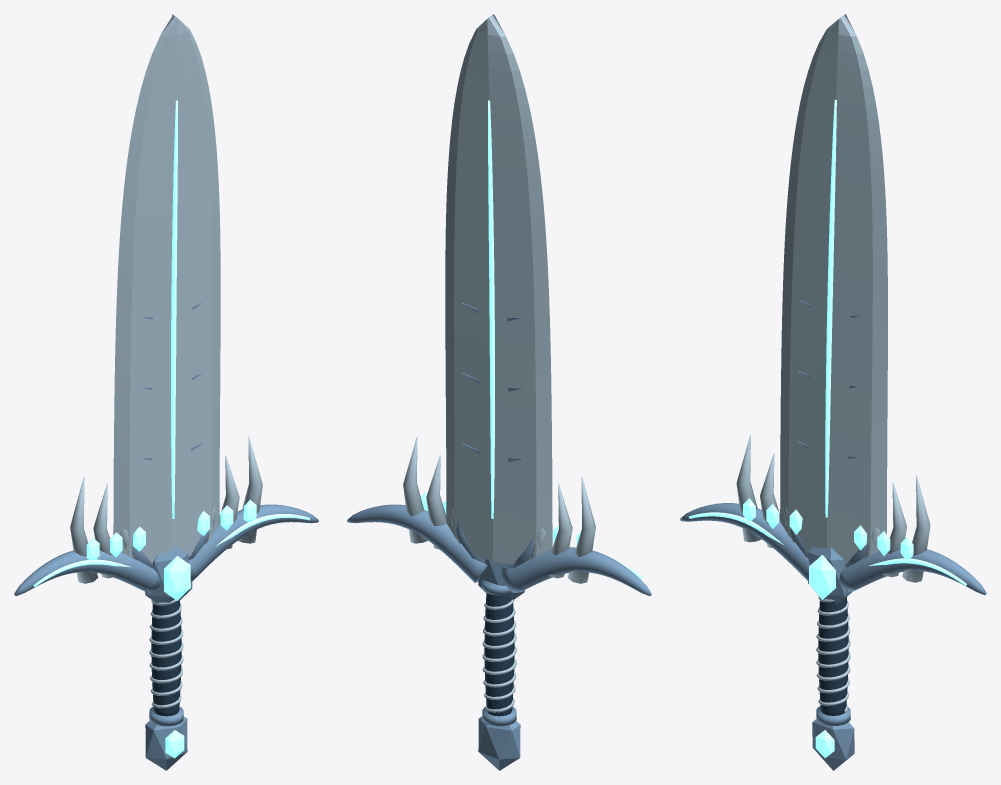
The model's file is frost_sovereign.glb.
3 views of the same model, side by side, from view 1: azimuth 30°, elevation 25°; view 2: azimuth 150°, elevation 25°; view 3: azimuth 330°, elevation 25° (orthographic).
Visible parts, largest first — view 1: Frost Sovereign blade, Swept guard wing.012, Tapered leather grip.006, Swept guard wing.013, Curved fuller inlay.012, Faceted pommel.006, Helical grip binding.006, Sovereign ice crown.002, Guard gemstone.006, Sovereign ice crown.005, Guard socket.006, Sovereign ice crown.001 (+1 smaller); view 2: Frost Sovereign blade, Swept guard wing.012, Swept guard wing.013, Tapered leather grip.006, Curved fuller inlay.013, Faceted pommel.006, Helical grip binding.006, Sovereign ice crown.002, Sovereign ice crown.005, Sovereign ice crown.004, Sovereign ice crown.001, Guard socket.006; view 3: Frost Sovereign blade, Swept guard wing.013, Tapered leather grip.006, Swept guard wing.012, Curved fuller inlay.012, Helical grip binding.006, Faceted pommel.006, Sovereign ice crown.005, Sovereign ice crown.002, Guard gemstone.006, Guard socket.006, Sovereign ice crown.004 (+1 smaller).
Boxes of the visible parts, x1,y1,x2,y2 form: Frost Sovereign blade: (113, 14, 220, 563); Swept guard wing.012: (14, 550, 161, 595); Tapered leather grip.006: (151, 600, 181, 716); Swept guard wing.013: (188, 504, 318, 581); Curved fuller inlay.012: (171, 100, 177, 518); Faceted pommel.006: (145, 716, 187, 770); Helical grip binding.006: (149, 599, 183, 708); Sovereign ice crown.002: (70, 477, 98, 583); Guard gemstone.006: (164, 556, 190, 600); Sovereign ice crown.005: (238, 437, 262, 543); Guard socket.006: (145, 546, 192, 602); Sovereign ice crown.001: (93, 484, 117, 578); Frost Sovereign blade: (445, 14, 552, 564); Swept guard wing.012: (501, 547, 651, 595); Swept guard wing.013: (347, 504, 487, 582); Tapered leather grip.006: (484, 593, 514, 716); Curved fuller inlay.013: (488, 100, 494, 518); Faceted pommel.006: (478, 716, 520, 770); Helical grip binding.006: (482, 599, 516, 712); Sovereign ice crown.002: (567, 477, 595, 583); Sovereign ice crown.005: (403, 437, 427, 543); Sovereign ice crown.004: (426, 455, 446, 549); Sovereign ice crown.001: (548, 484, 572, 578); Guard socket.006: (478, 559, 524, 599); Frost Sovereign blade: (780, 14, 887, 563); Swept guard wing.013: (838, 549, 986, 595); Tapered leather grip.006: (818, 597, 848, 715); Swept guard wing.012: (680, 503, 809, 581); Curved fuller inlay.012: (825, 99, 836, 517); Helical grip binding.006: (816, 596, 850, 712); Faceted pommel.006: (812, 719, 854, 770); Sovereign ice crown.005: (902, 475, 930, 582); Sovereign ice crown.002: (736, 435, 761, 542); Guard gemstone.006: (809, 554, 836, 599); Guard socket.006: (807, 547, 852, 604); Sovereign ice crown.004: (883, 482, 906, 577).
Bounding box in the file's own units: 2.75 × 6.5 × 0.3739.
